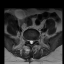CCS_stenosis: (30, 38, 32, 45)
LFS_stenosis: (34, 38, 36, 43)
LLS_normal: (32, 38, 34, 44)
RFS_stenosis: (27, 38, 29, 43)
RLS_normal: (29, 38, 30, 44)
